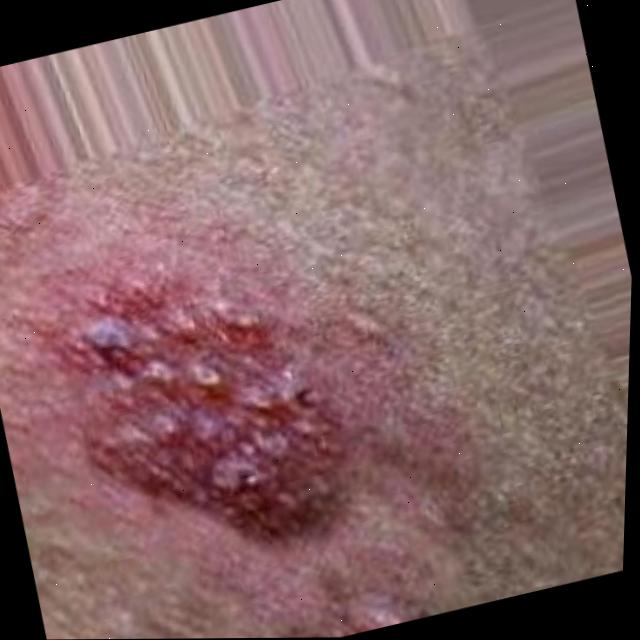Shingles: (70, 255, 351, 579)
